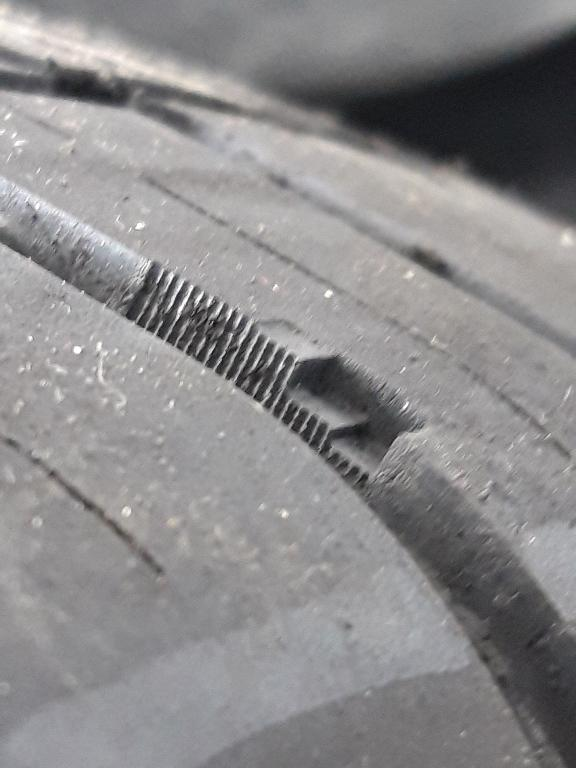temoin:50: (220, 309, 442, 507)
